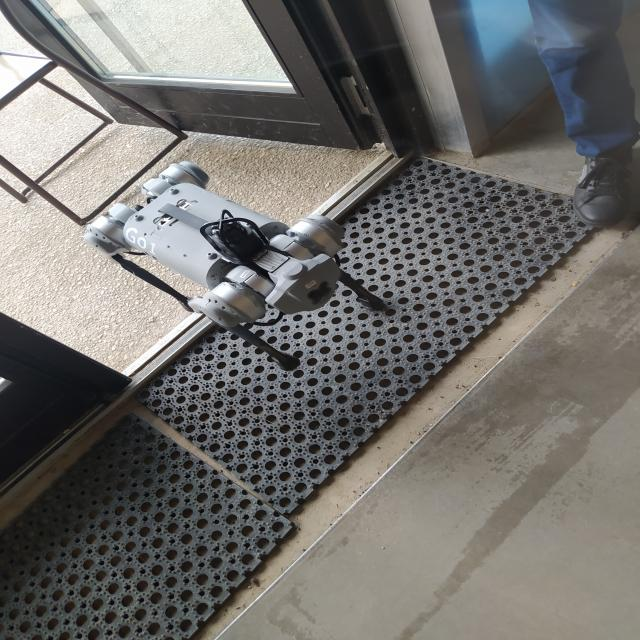unitree-go1-robot: (73, 148, 406, 386)
